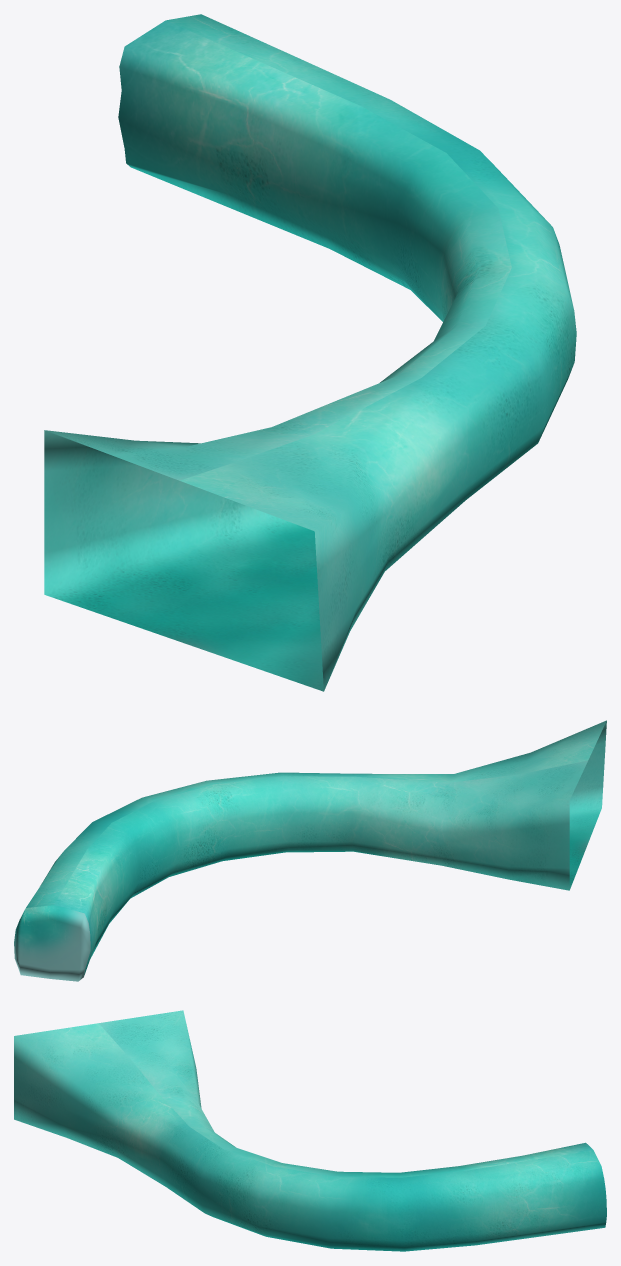
Rendered from Lvl1ExitNew.fbx.
The picture shows the model from 3 angles, top to bottom: view 1: azimuth 30°, elevation 25°; view 2: azimuth 150°, elevation 25°; view 3: azimuth 270°, elevation 25°; orthographic projection. The views are drawn at different scales.
Visible parts, largest first — view 1: Exit; view 2: Exit; view 3: Exit.
Part boxes in pixels (<box>): Exit: <box>44,14,576,691</box>; Exit: <box>14,720,606,981</box>; Exit: <box>14,1010,606,1251</box>.
Size of the model in its own units: 9.15 by 2.18 by 13.86.
